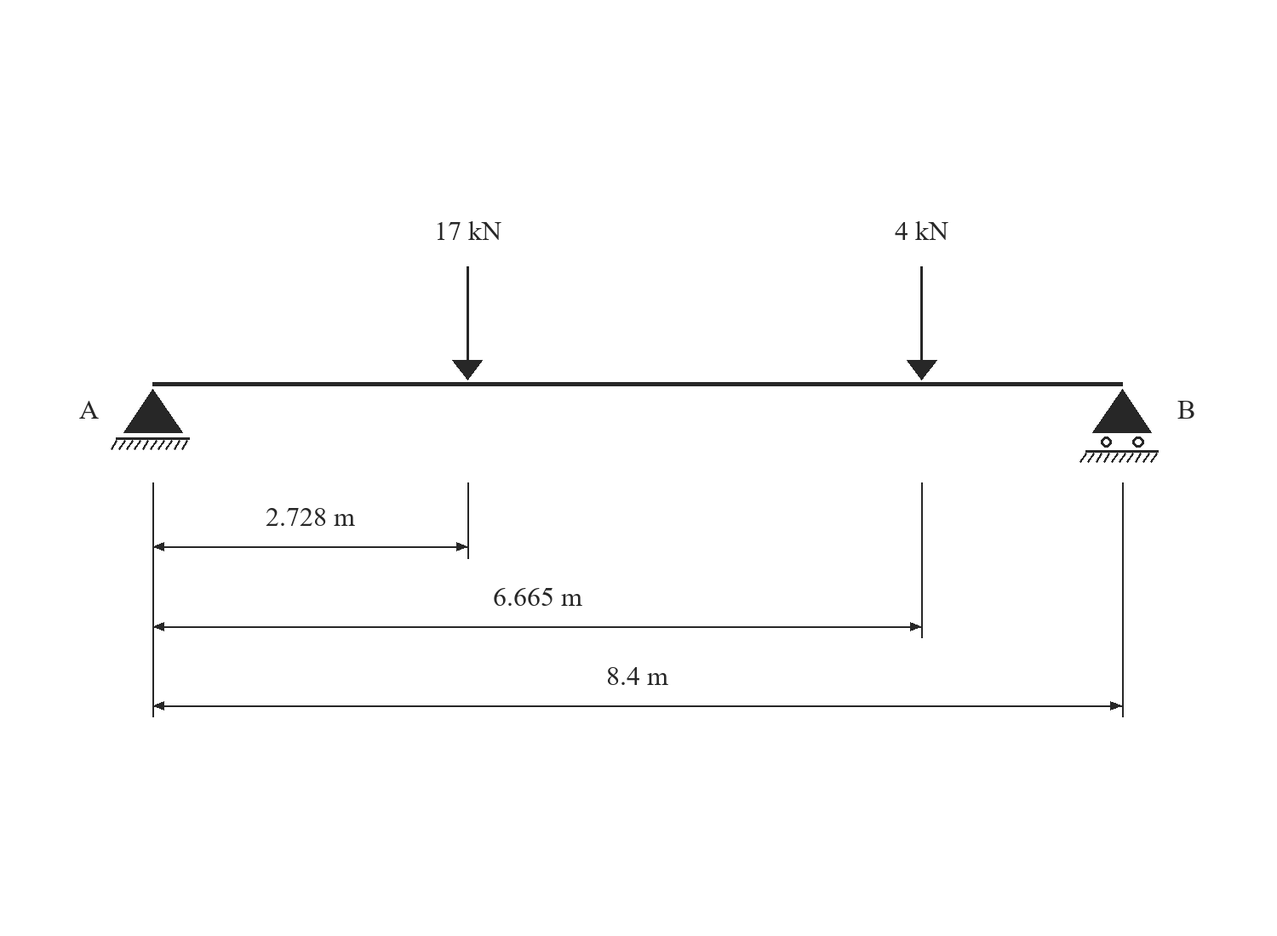pin_support: (111, 389, 190, 450)
point_load: (452, 266, 483, 380), (907, 266, 937, 380)
roller_support: (1079, 389, 1159, 463)
